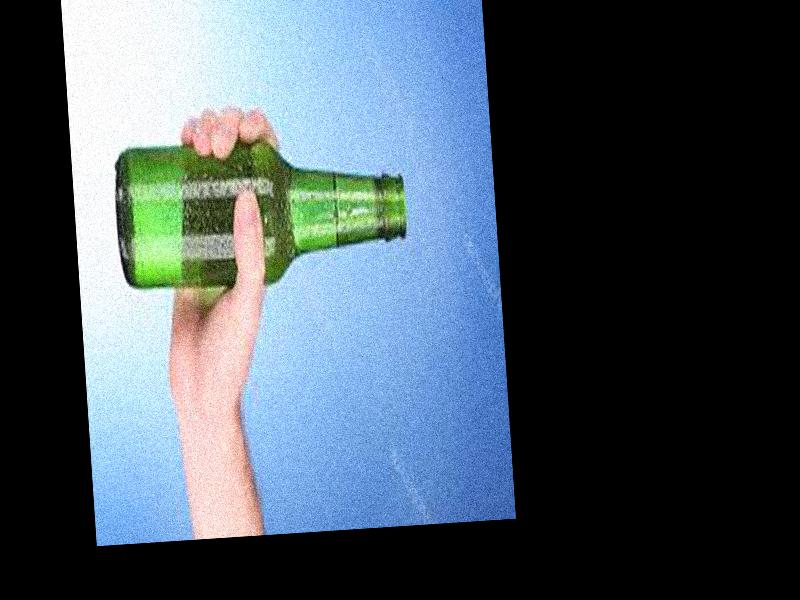Beer: (111, 133, 410, 290)
